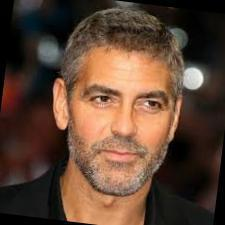Sober: (73, 48, 169, 180)
